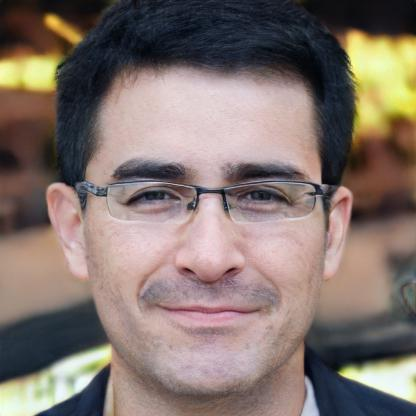glasses: (86, 172, 328, 241)
